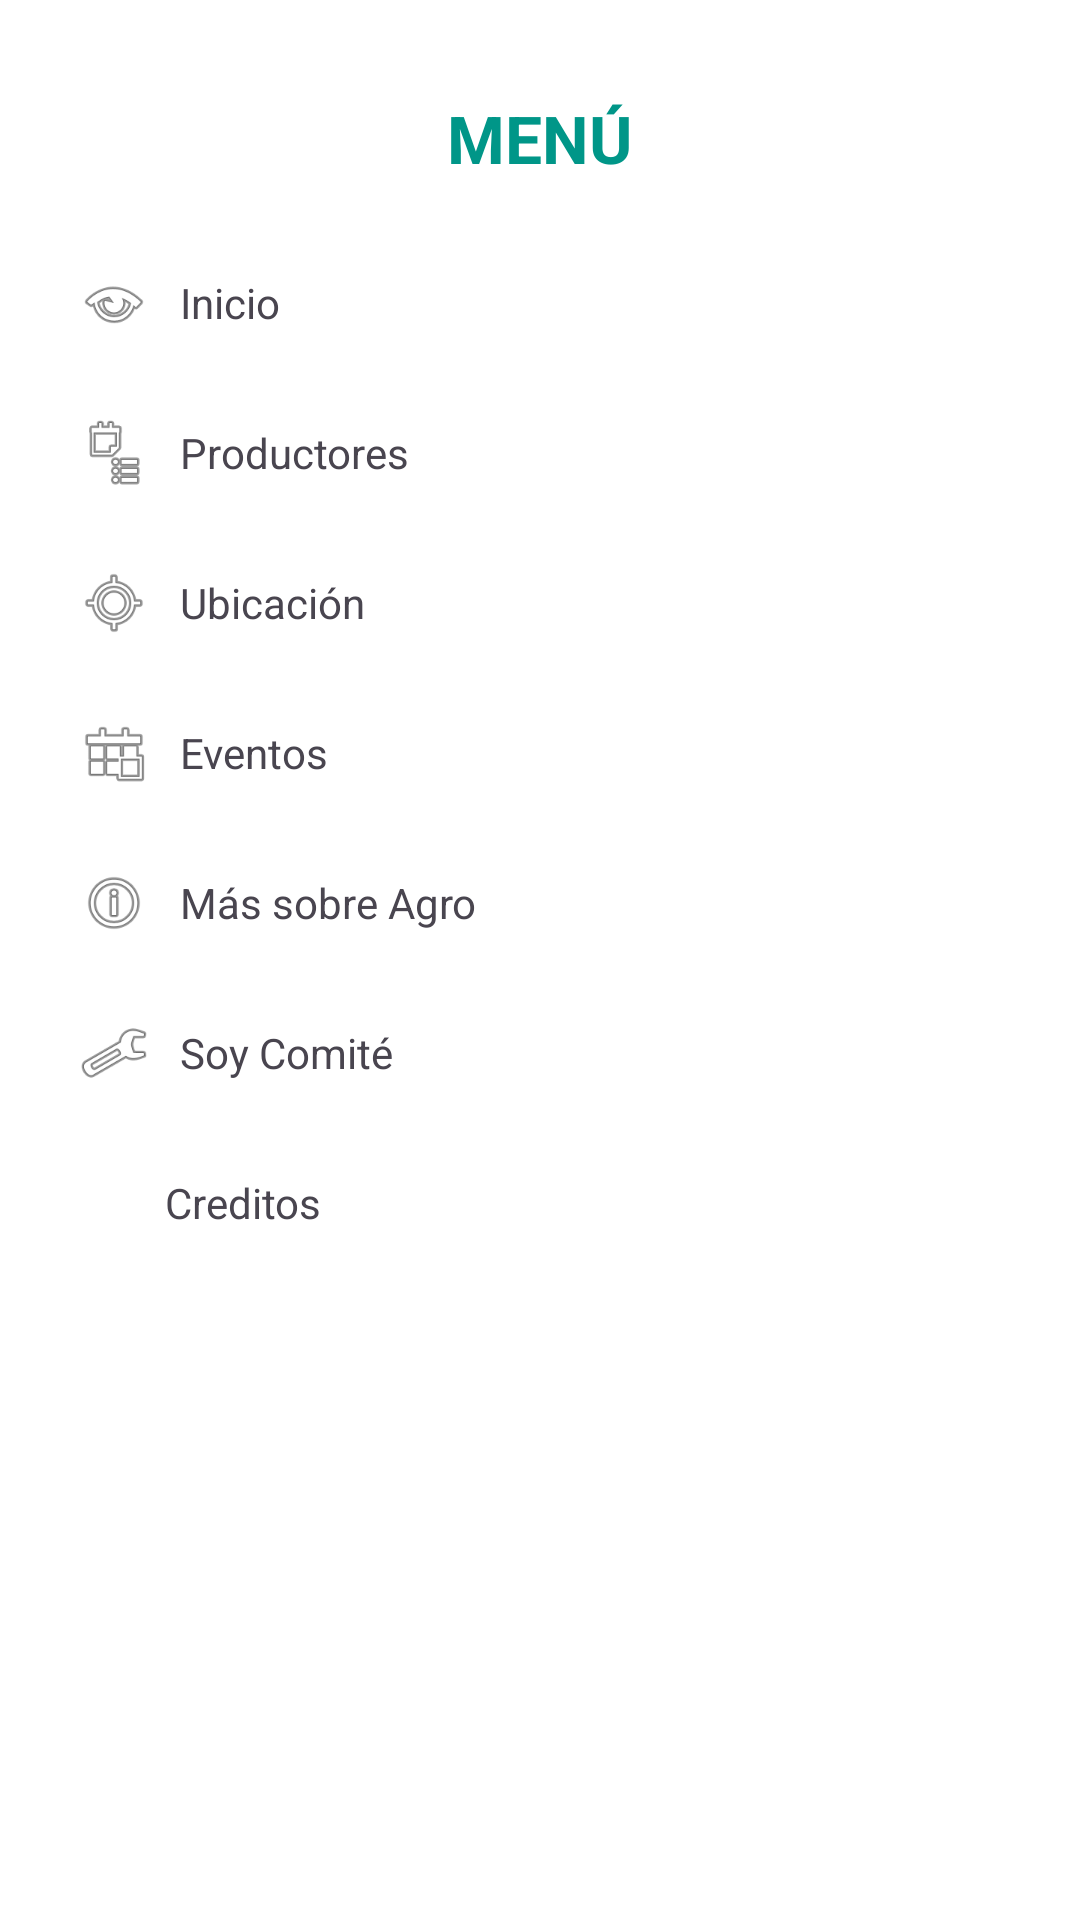

Icon click points for this 1080 x 1920 phone screenshot, format (x=x, y=y):
agenda: (x=114, y=453)
info details: (x=114, y=903)
manage: (x=113, y=1053)
mylocation: (x=114, y=603)
today: (x=114, y=754)
view: (x=114, y=304)
